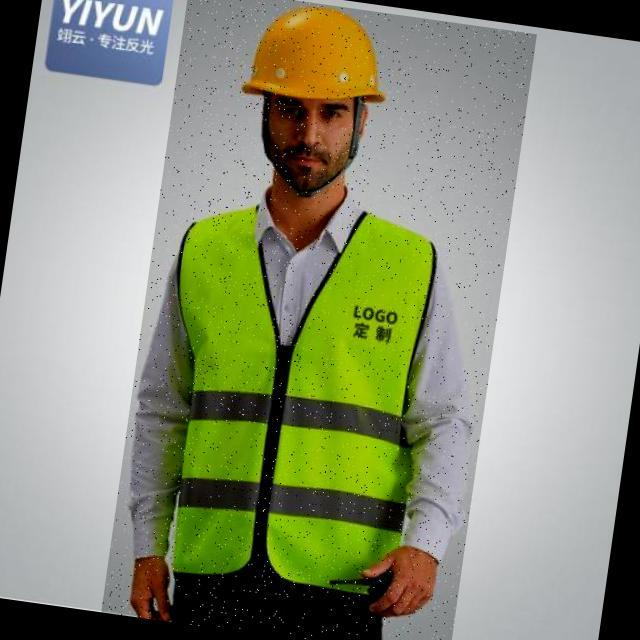Helmet: (240, 0, 399, 119)
Human: (101, 0, 537, 640)
Safety Vest: (142, 186, 450, 606)
